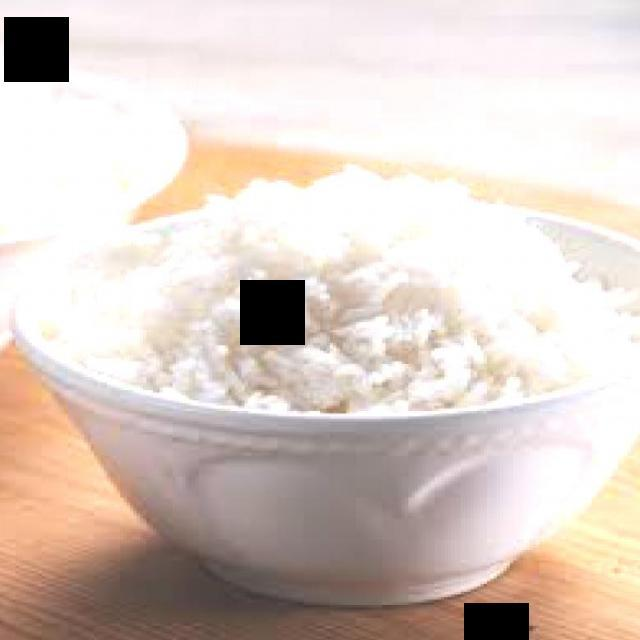rice: (40, 163, 640, 413)
